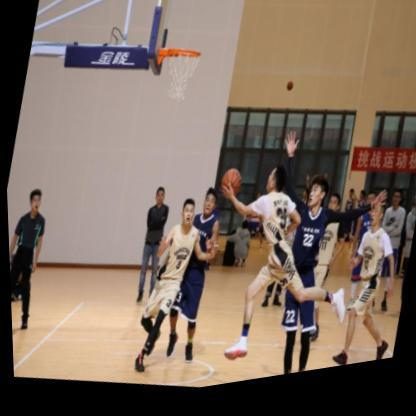basketball: (215, 172, 242, 208)
rim: (157, 49, 203, 111)
